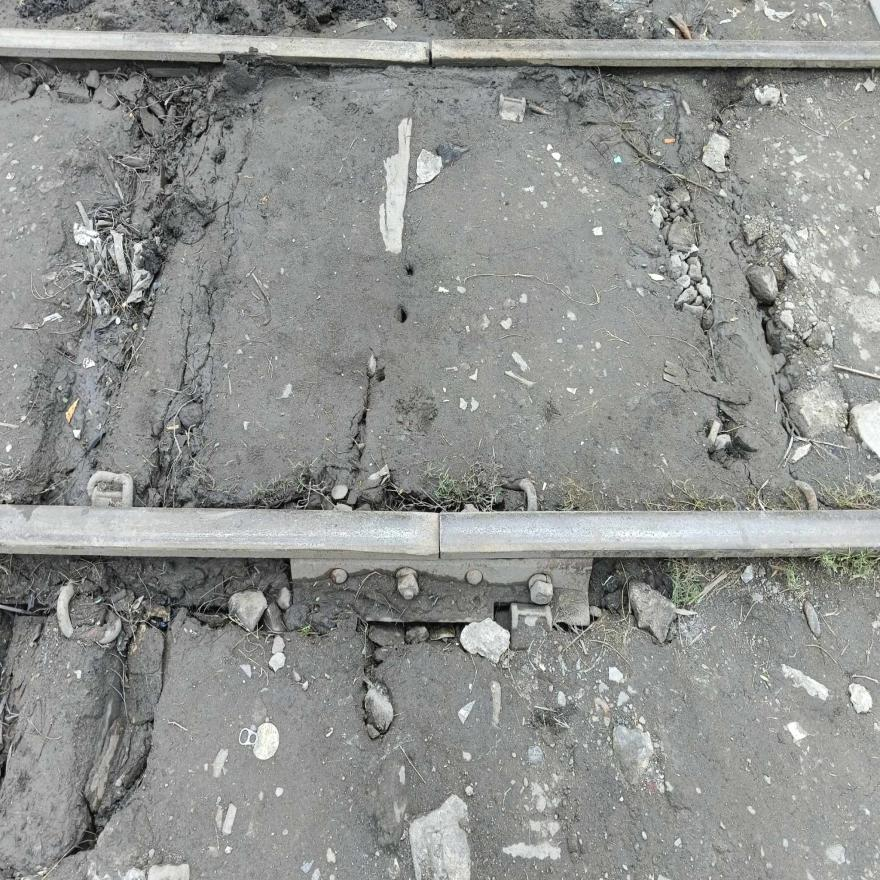railway-gap: (404, 478, 476, 586), (406, 18, 458, 85)
